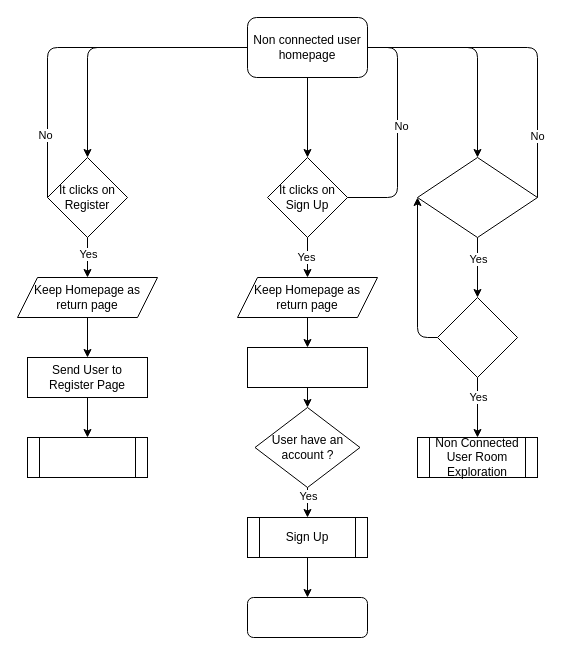
This 561x655 diagram has some shape labels left out. The box of each missing label's shape, as (x1, y1, x2, y2) in pixels:
End Non connected user: (246, 596, 368, 638)
Explore Main page: (416, 156, 538, 238)
It clicks on Room Ad: (436, 296, 518, 378)
Register: (26, 436, 148, 478)
Send User Sign up page: (246, 346, 368, 388)
